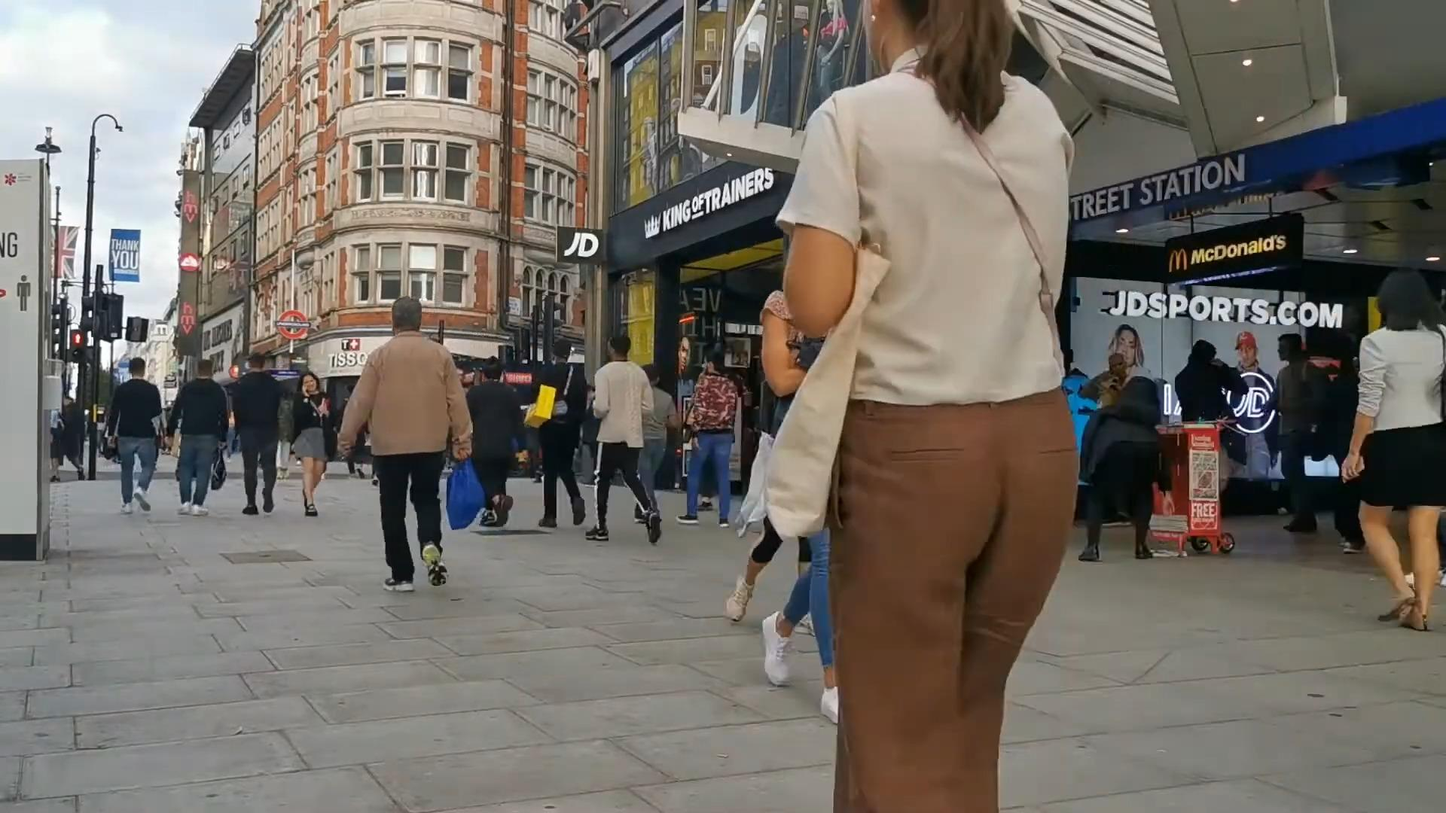no-helmet: (863, 0, 1013, 73), (1375, 270, 1446, 331), (392, 296, 422, 336), (608, 333, 631, 359), (703, 349, 725, 376), (481, 356, 502, 382), (551, 339, 572, 364), (297, 370, 319, 392)
